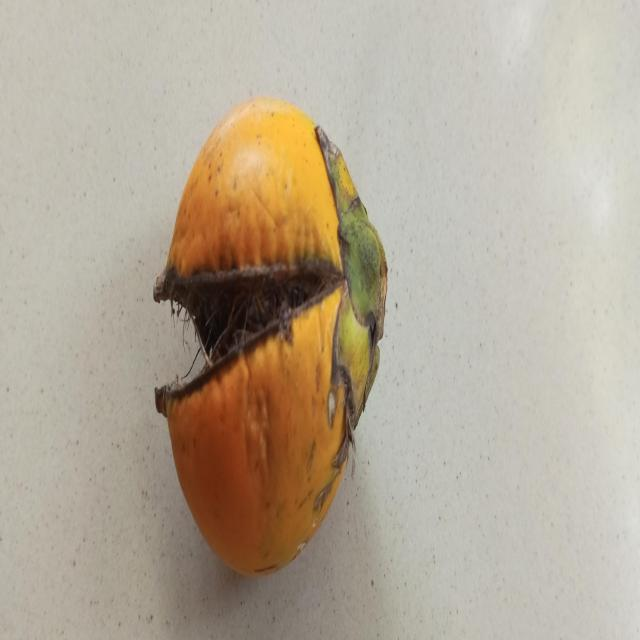damaged: (154, 98, 389, 579)
